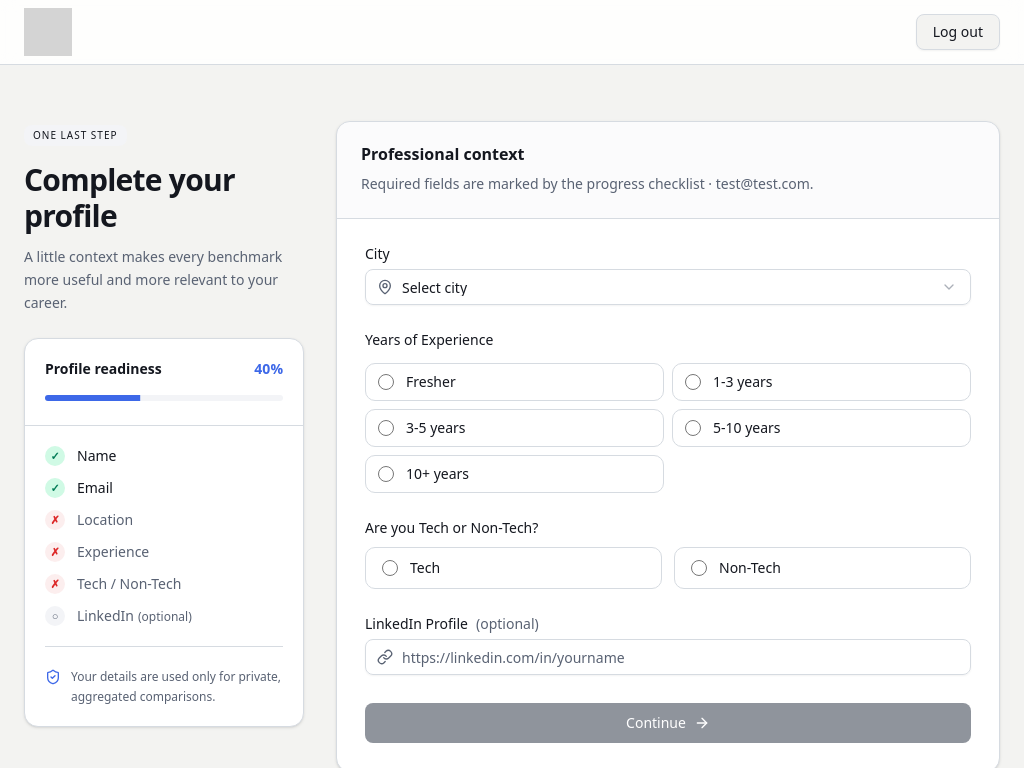
Test: CompleteProfilePage › keeps Continue disabled until city, experience, and background are selected
Expected: the button "Continue" is disabled, [365, 703, 971, 743]
Select "Hyderabad" in the dropdown labelled "City" at (668, 287), box [365, 269, 971, 305]
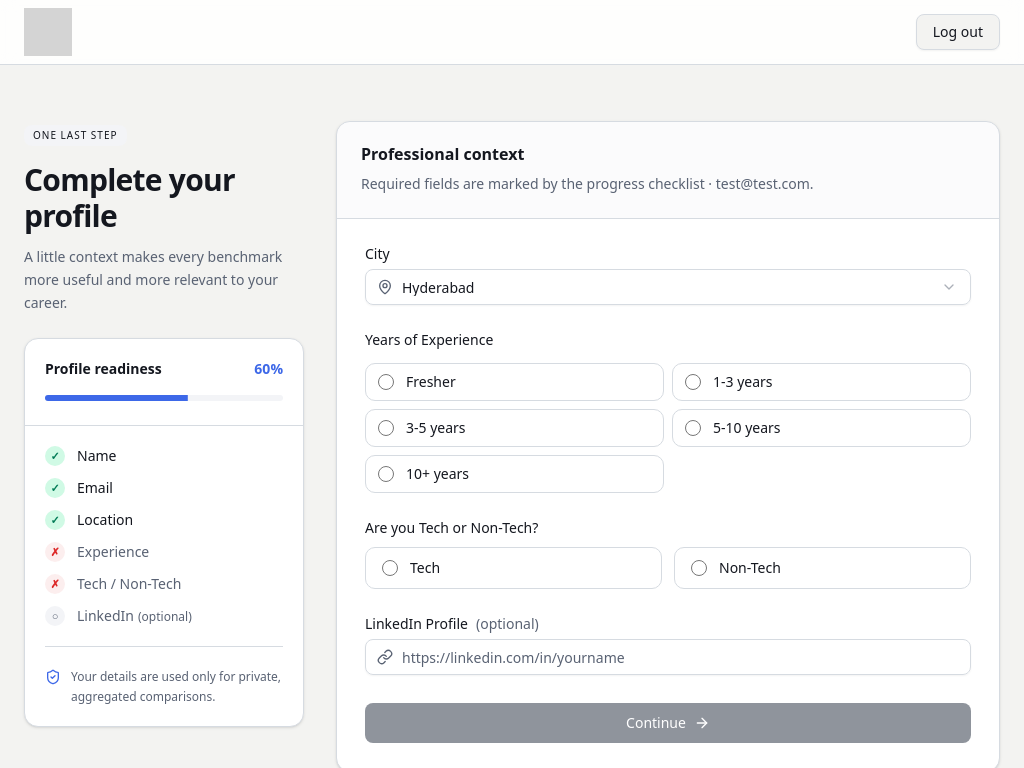
Click the radio button labelled "1-3 years" at (693, 382), box [685, 374, 701, 390]
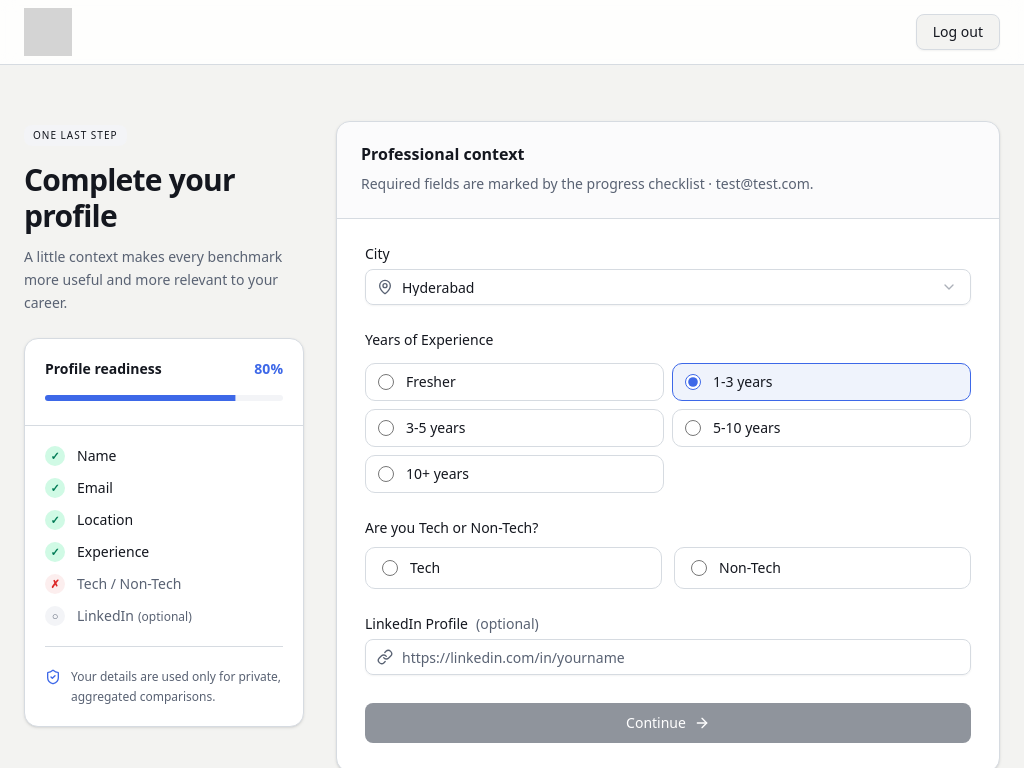
Click the radio button labelled "Tech" at (390, 568), box [382, 560, 398, 576]
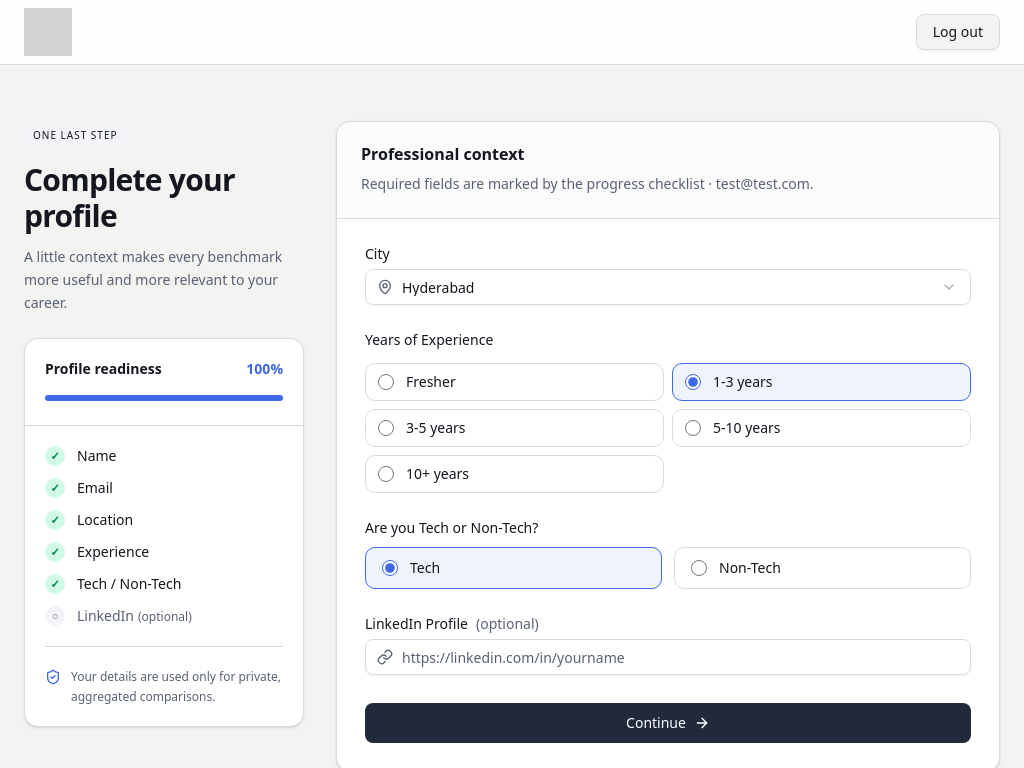
Now the button "Continue" is enabled, box [365, 703, 971, 743]
